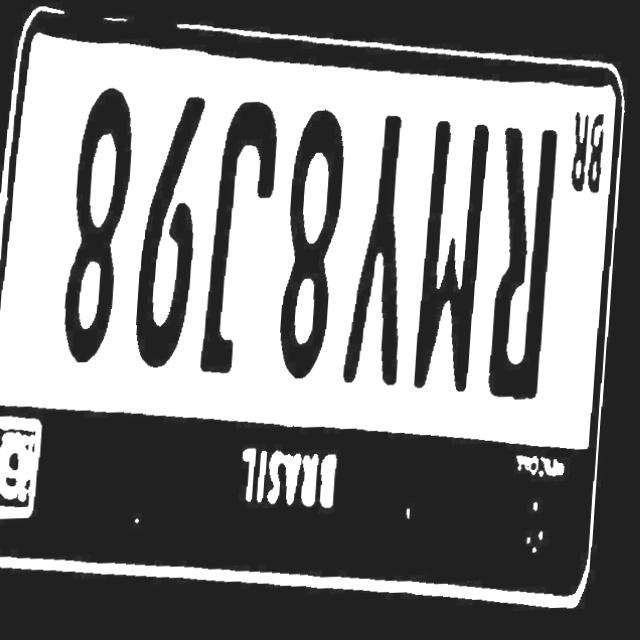8: (61, 84, 137, 364), (278, 118, 347, 383)
9: (130, 90, 212, 373)
j: (202, 101, 284, 377)
m: (416, 121, 492, 393)
r: (490, 129, 563, 406)
y: (350, 122, 416, 393)
